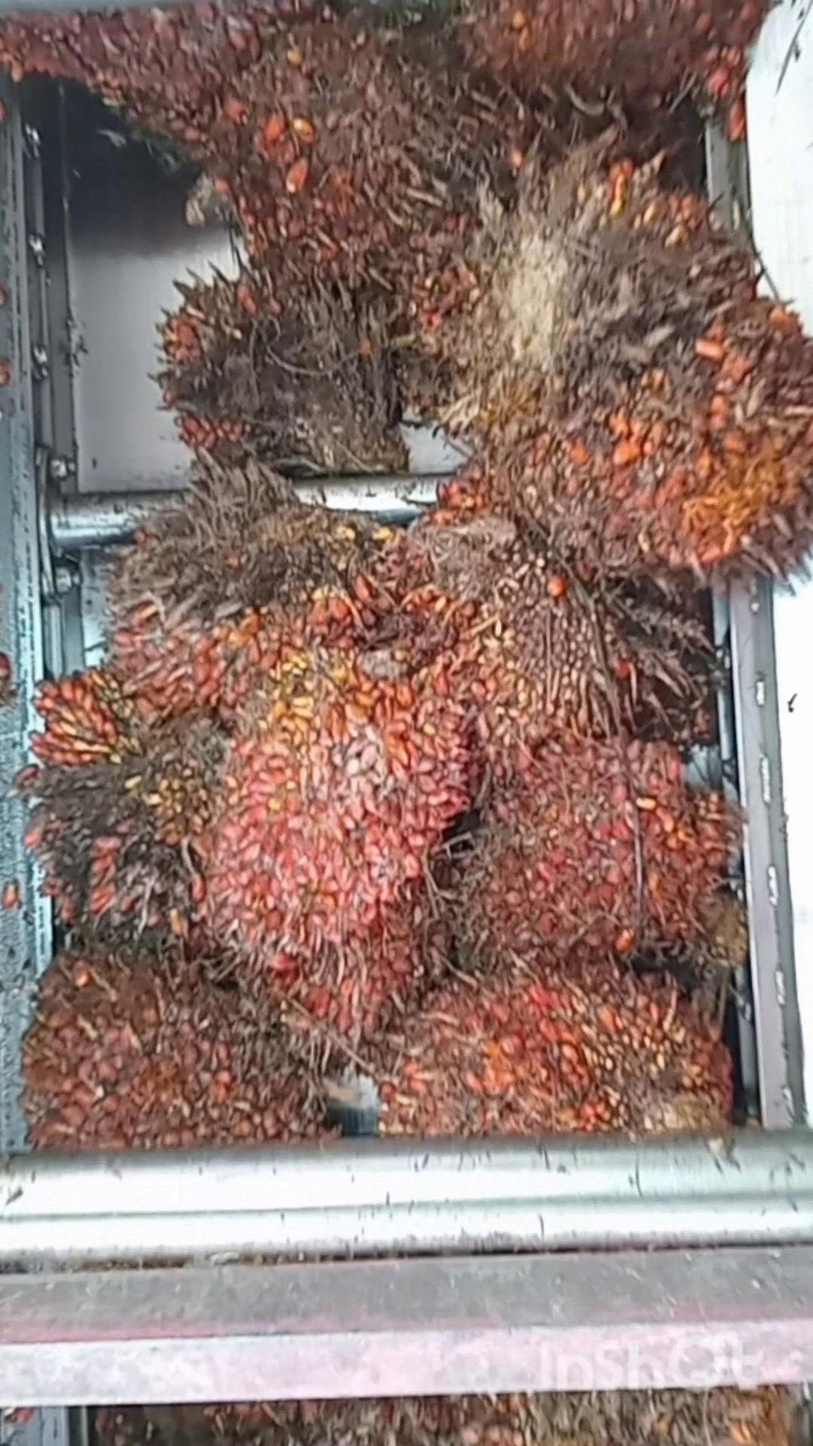Madurado: (467, 151, 813, 561), (211, 648, 467, 956), (23, 939, 326, 1151), (378, 972, 739, 1147), (113, 504, 371, 724), (448, 749, 737, 943)
Podrido: (162, 260, 422, 482)
